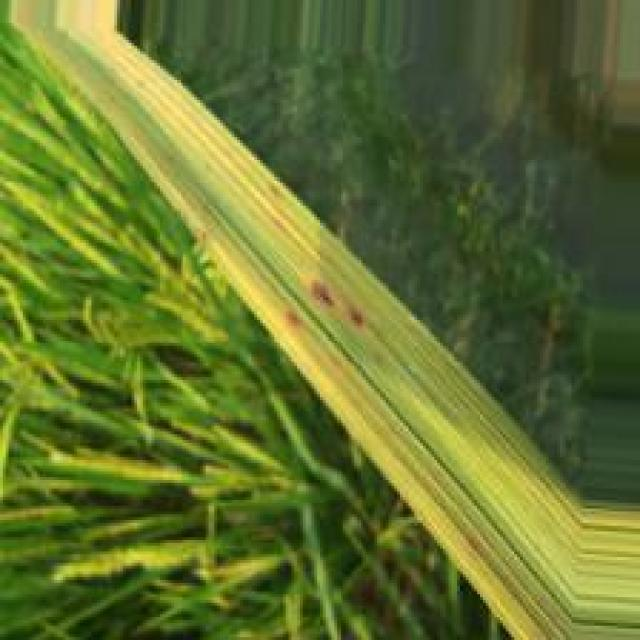Brown_Spot: (312, 282, 332, 305), (349, 306, 364, 327), (286, 308, 300, 324)
